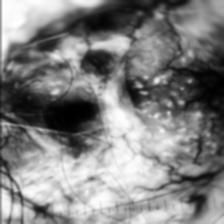Potentially Malignant Skin Tumors: (38, 76, 118, 154)
